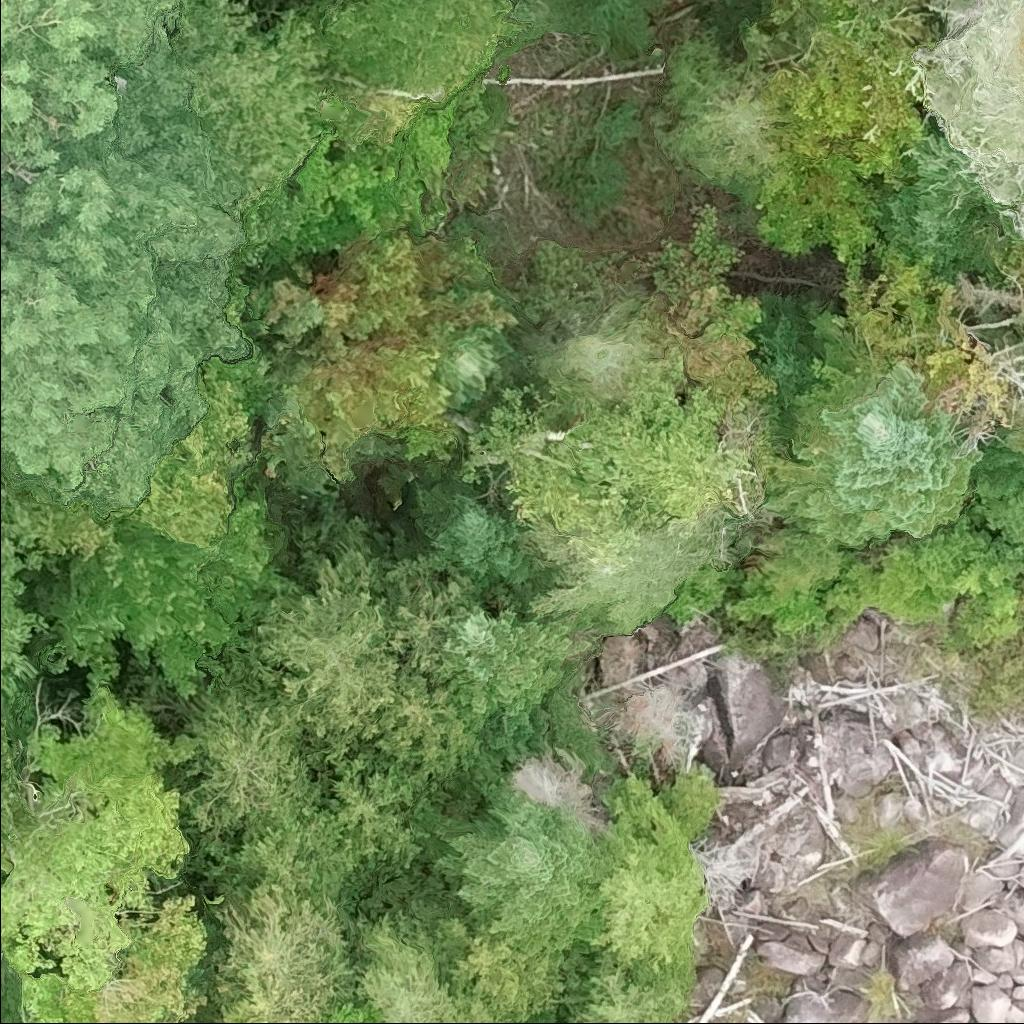crown: (0, 0, 253, 518), (0, 690, 215, 1023), (286, 229, 526, 483), (32, 479, 296, 695), (754, 0, 941, 263), (504, 352, 752, 546), (416, 779, 620, 973), (781, 356, 986, 546), (256, 546, 408, 770), (170, 0, 333, 203), (653, 18, 806, 207), (179, 687, 319, 863), (587, 774, 704, 978), (428, 601, 593, 740), (204, 782, 366, 922), (210, 879, 356, 1023), (876, 129, 1015, 276), (316, 0, 518, 92), (521, 288, 657, 420), (321, 745, 445, 879), (411, 476, 535, 601), (423, 915, 564, 1023), (0, 575, 51, 872), (350, 905, 458, 1023), (378, 671, 481, 787), (505, 741, 611, 836), (554, 952, 689, 1023), (747, 290, 817, 418), (385, 574, 472, 675), (437, 322, 512, 409), (455, 988, 514, 1023), (0, 943, 21, 1023), (323, 1000, 383, 1023), (1006, 244, 1023, 319), (229, 1020, 244, 1023)
